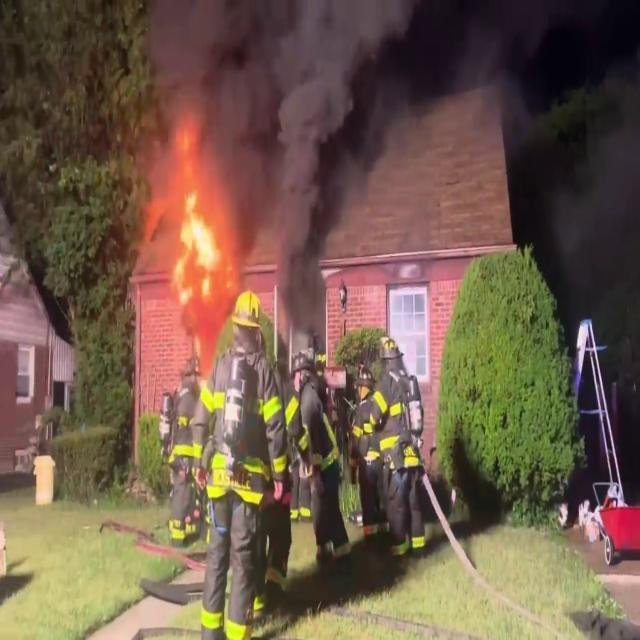Fire: (166, 148, 268, 328)
Smoke: (148, 0, 414, 268)
